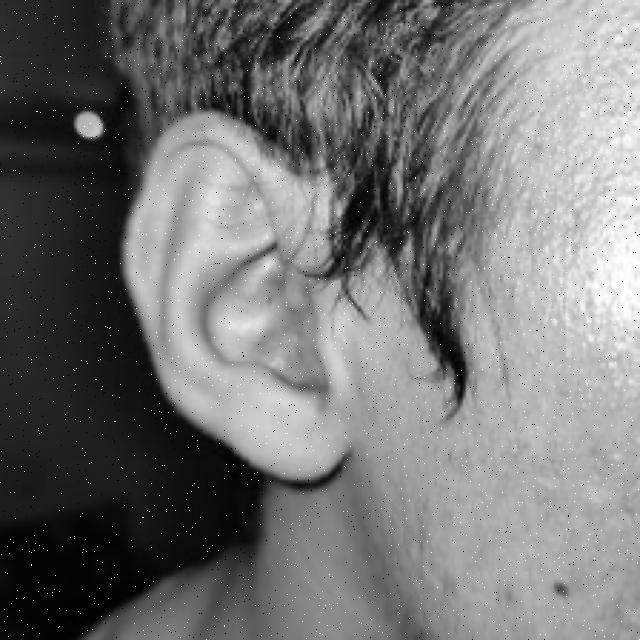ear: (126, 111, 346, 477)
